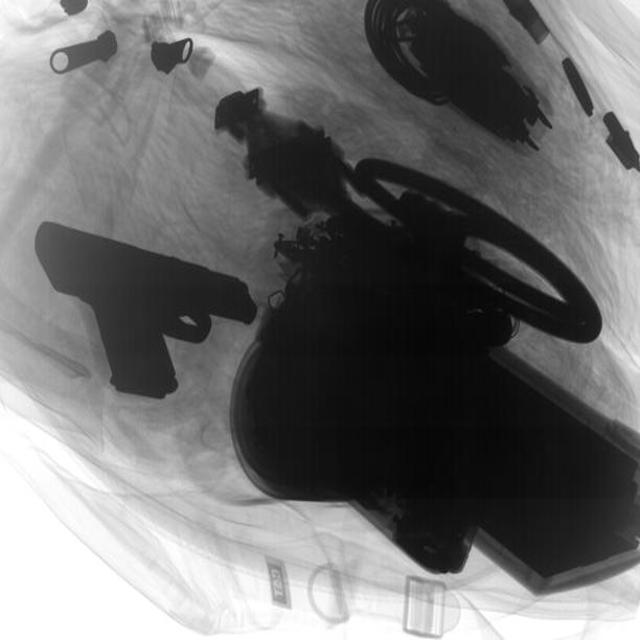gun: (24, 202, 264, 399)
